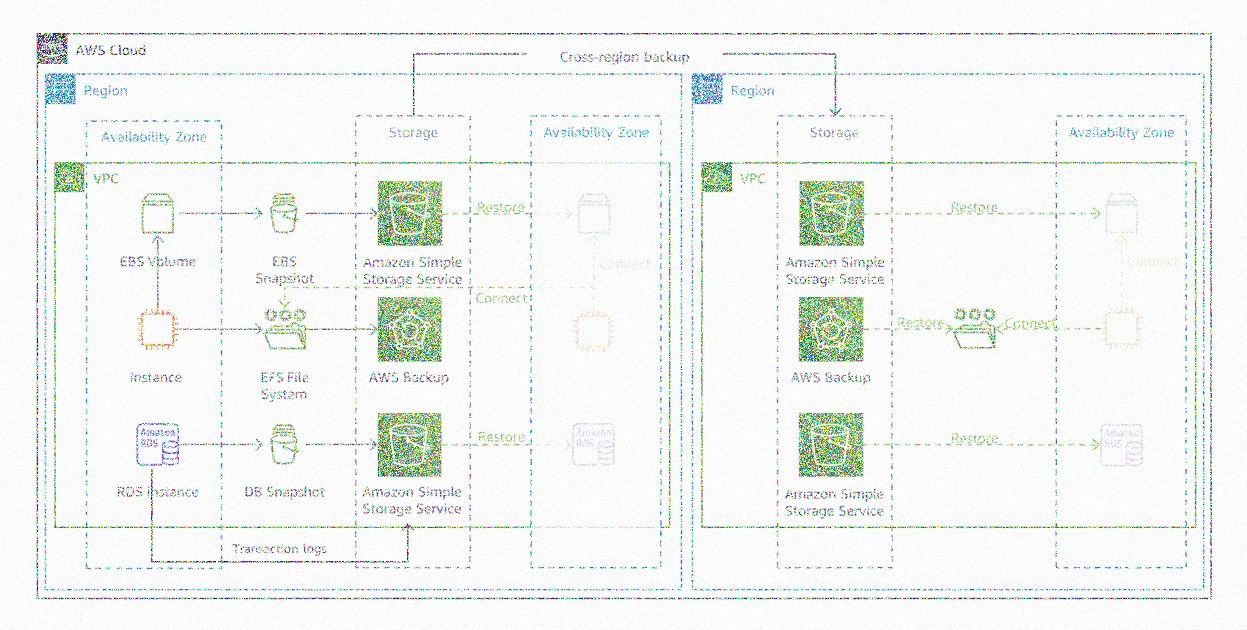Backup: (371, 294, 450, 368), (796, 294, 868, 366)
EBS: (1102, 187, 1149, 242), (575, 188, 619, 243), (137, 186, 183, 238)
EC2: (132, 300, 189, 356), (569, 303, 623, 360), (1100, 302, 1144, 353)
EFS: (258, 302, 315, 356), (947, 302, 1004, 355)
RDS: (1093, 416, 1153, 474), (129, 413, 187, 471), (569, 411, 623, 471)
Region: (690, 72, 724, 106), (44, 71, 76, 106)
S3: (793, 408, 870, 483), (373, 174, 445, 251), (796, 177, 868, 251), (376, 408, 445, 480), (264, 416, 305, 471), (264, 186, 302, 240)
aws: (37, 31, 69, 66)
